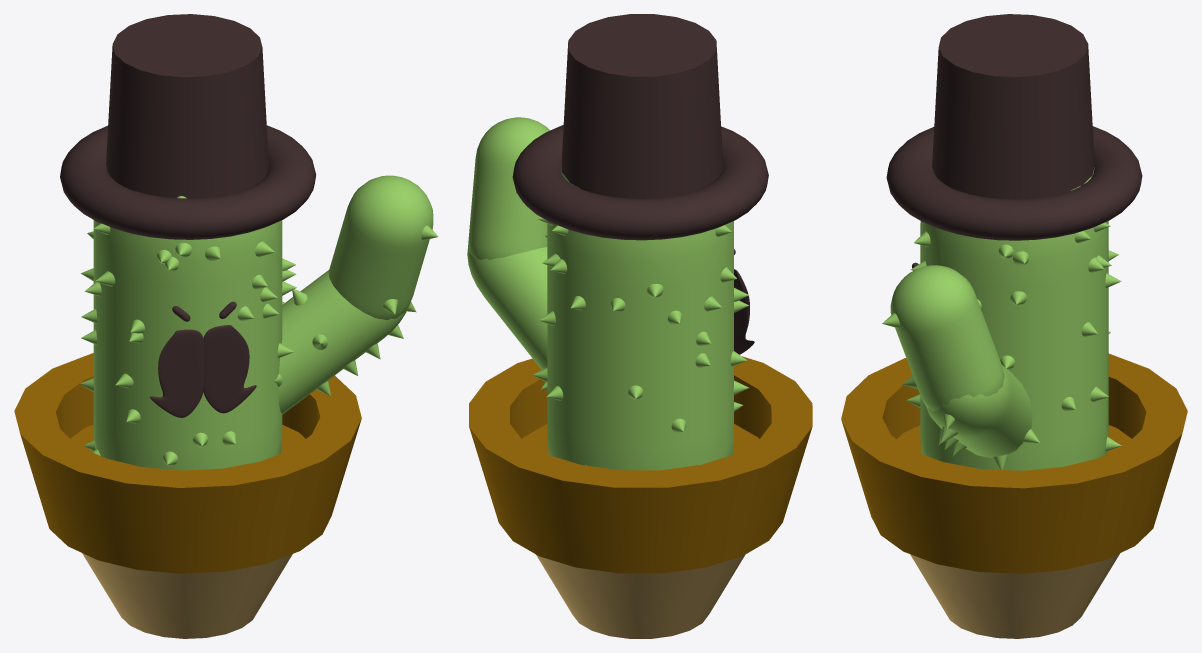
Rendered from Cactus.fbx.
The picture shows the model from 3 angles, left to right: view 1: azimuth 30°, elevation 25°; view 2: azimuth 150°, elevation 25°; view 3: azimuth 270°, elevation 25°; orthographic projection.
Parts seen in each view (by area): view 1: 圆柱_1, 胶囊, 圆柱_2, 圆环, 胶囊_1, 圆柱, 胶囊_2, 细分曲面_1, 克隆_1, 克隆_2; view 2: 圆柱_1, 胶囊, 圆柱_2, 圆环, 圆柱, 胶囊_1, 胶囊_2, 克隆_1, 细分曲面_1; view 3: 圆柱_1, 胶囊, 圆柱_2, 圆环, 胶囊_1, 圆柱, 胶囊_2, 克隆_1, 克隆_2.
Boxes of the visible parts, left/top/right/bottom form: 圆柱_1: left=14, top=353, right=361, bottom=573; 胶囊: left=93, top=220, right=282, bottom=470; 圆柱_2: left=106, top=14, right=268, bottom=198; 圆环: left=60, top=125, right=316, bottom=239; 胶囊_1: left=328, top=175, right=433, bottom=319; 圆柱: left=82, top=553, right=292, bottom=638; 胶囊_2: left=278, top=270, right=410, bottom=414; 细分曲面_1: left=150, top=325, right=256, bottom=417; 克隆_1: left=80, top=196, right=296, bottom=465; 克隆_2: left=274, top=289, right=403, bottom=396; 圆柱_1: left=469, top=356, right=812, bottom=573; 胶囊: left=547, top=162, right=733, bottom=470; 圆柱_2: left=561, top=14, right=722, bottom=198; 圆环: left=512, top=125, right=768, bottom=240; 圆柱: left=536, top=554, right=744, bottom=638; 胶囊_1: left=468, top=117, right=549, bottom=259; 胶囊_2: left=467, top=245, right=547, bottom=369; 克隆_1: left=532, top=217, right=748, bottom=465; 细分曲面_1: left=734, top=269, right=754, bottom=354; 圆柱_1: left=841, top=353, right=1187, bottom=573; 胶囊: left=920, top=167, right=1108, bottom=470; 圆柱_2: left=932, top=14, right=1094, bottom=199; 圆环: left=886, top=126, right=1142, bottom=240; 胶囊_1: left=890, top=265, right=1004, bottom=410; 圆柱: left=910, top=553, right=1119, bottom=638; 胶囊_2: left=926, top=365, right=1032, bottom=457; 克隆_1: left=906, top=222, right=1121, bottom=451; 克隆_2: left=938, top=426, right=1039, bottom=469.
Size of the model in its own units: 62.73 by 96.7 by 53.91.
